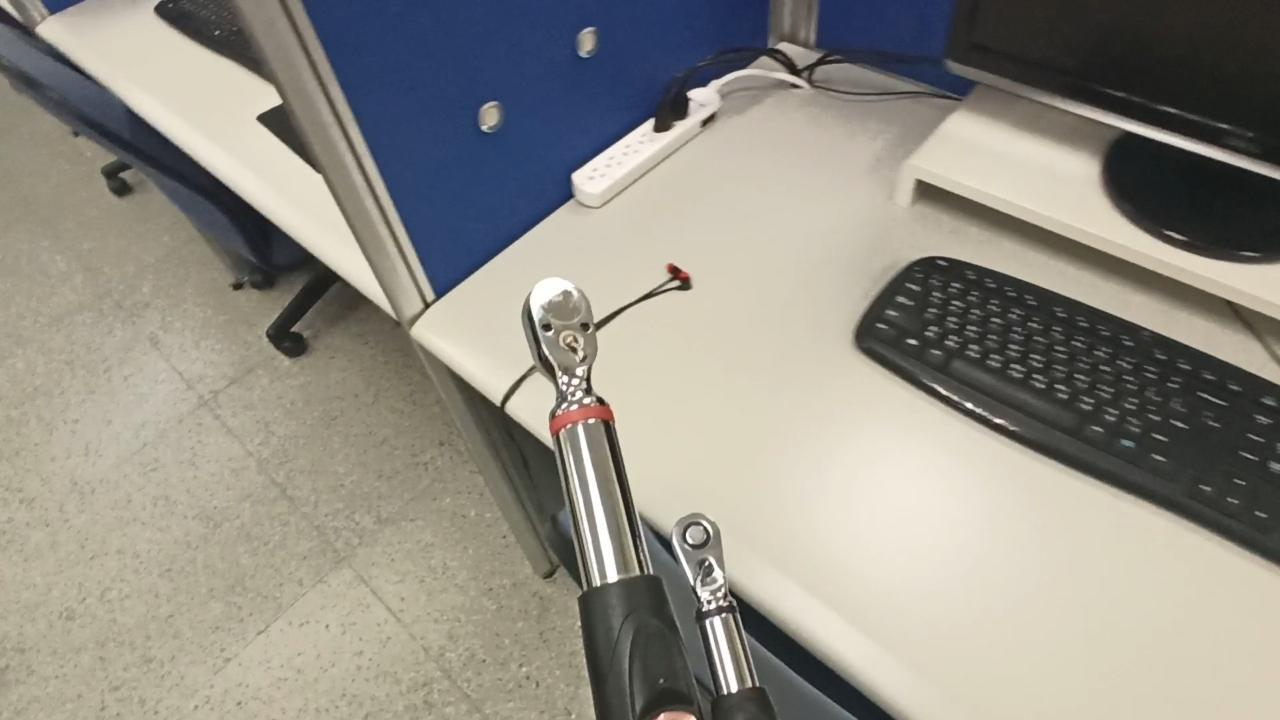Tool: (524, 270, 622, 434), (674, 506, 746, 608)
